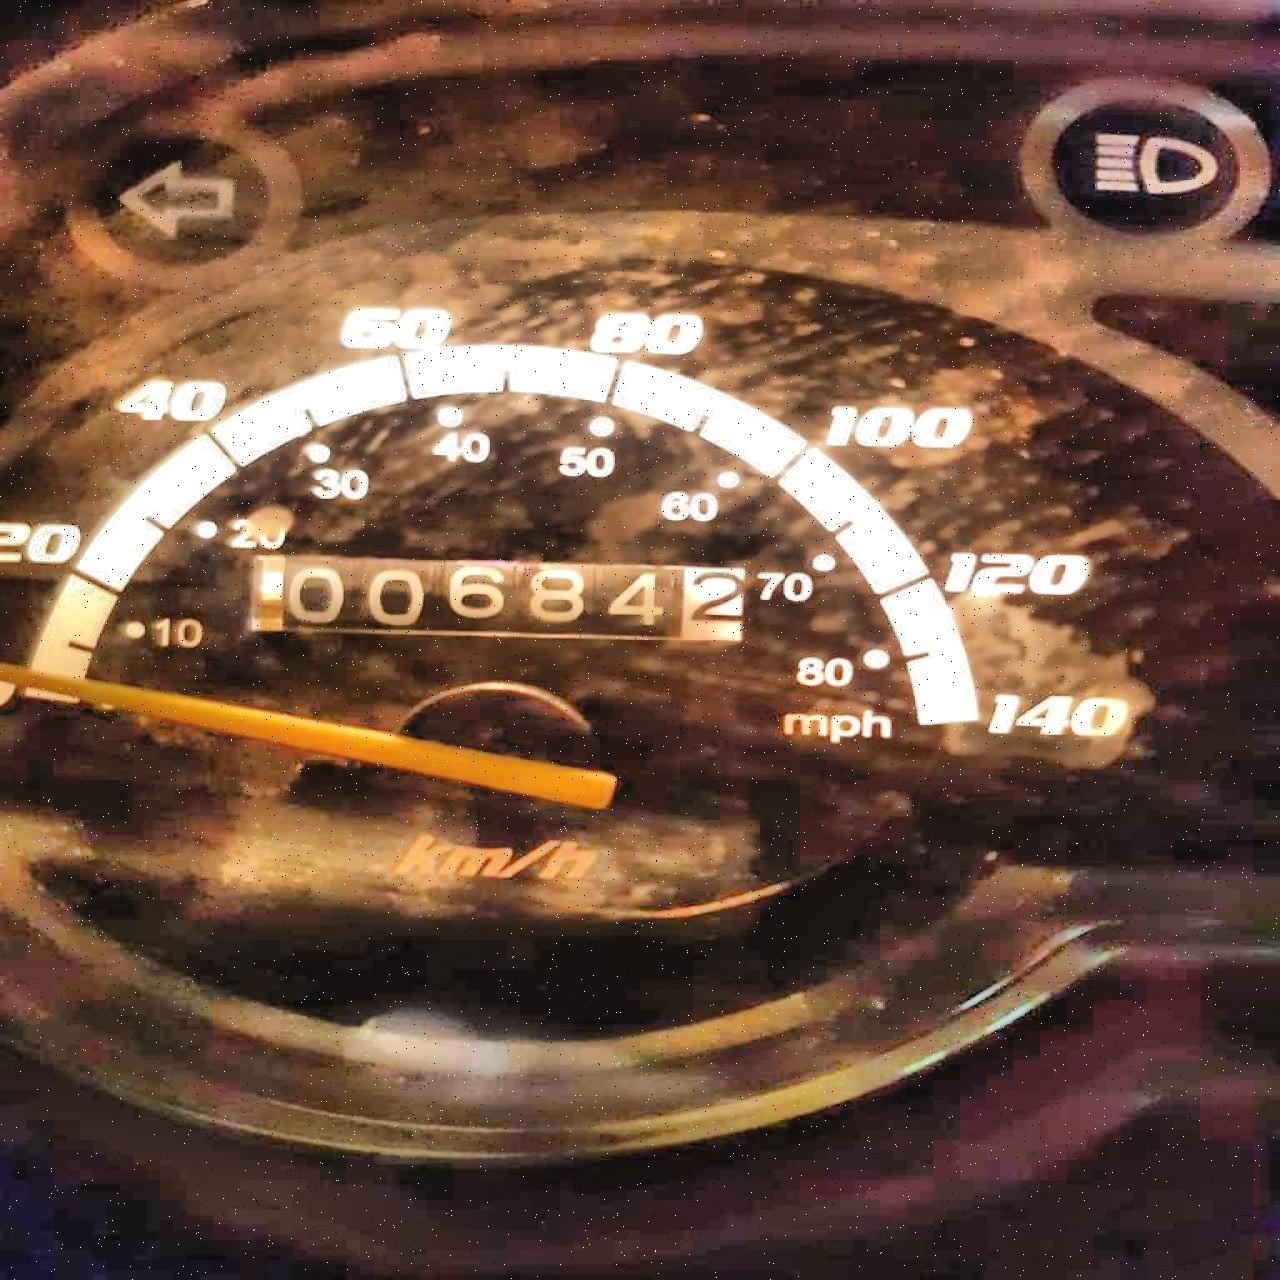0: (362, 565, 428, 625), (288, 559, 343, 625)
2: (682, 565, 745, 626)
4: (604, 568, 667, 627)
6: (445, 561, 506, 620)
8: (529, 565, 590, 625)
odometer: (237, 549, 748, 647)
